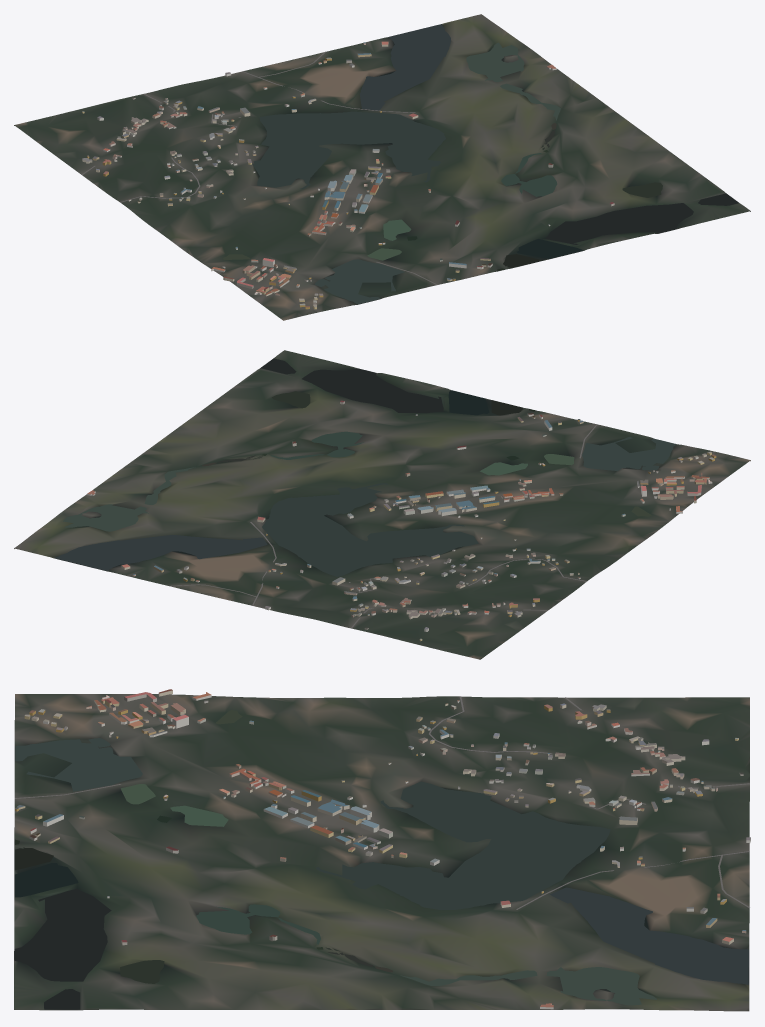
The picture shows the model from 3 angles, top to bottom: view 1: azimuth 30°, elevation 25°; view 2: azimuth 150°, elevation 25°; view 3: azimuth 270°, elevation 25°; orthographic projection. The views are drawn at different scales.
Visible parts, largest first — view 1: ground, water, buildings, roads; view 2: ground, water, buildings, roads; view 3: ground, water, buildings, roads.
Boxes of the visible parts, x1,y1,x2,y2 form: ground: [14, 14, 750, 320]; water: [223, 24, 738, 304]; buildings: [82, 41, 614, 309]; roads: [81, 51, 437, 284]; ground: [14, 350, 750, 659]; water: [54, 358, 676, 576]; buildings: [87, 400, 716, 641]; roads: [169, 424, 597, 628]; ground: [14, 694, 749, 1011]; water: [14, 710, 748, 1009]; buildings: [15, 689, 750, 1009]; roads: [14, 696, 749, 909].
Size of the model in its own units: 1410 by 32.27 by 1405.
